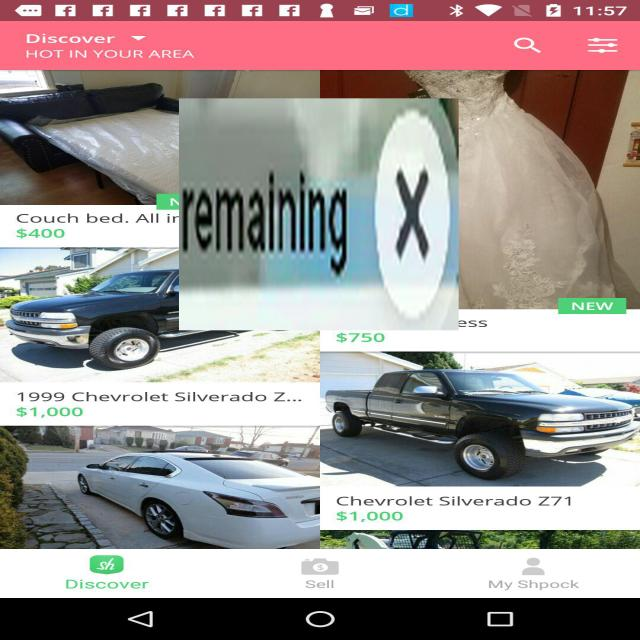misdirection: (179, 98, 459, 330)
